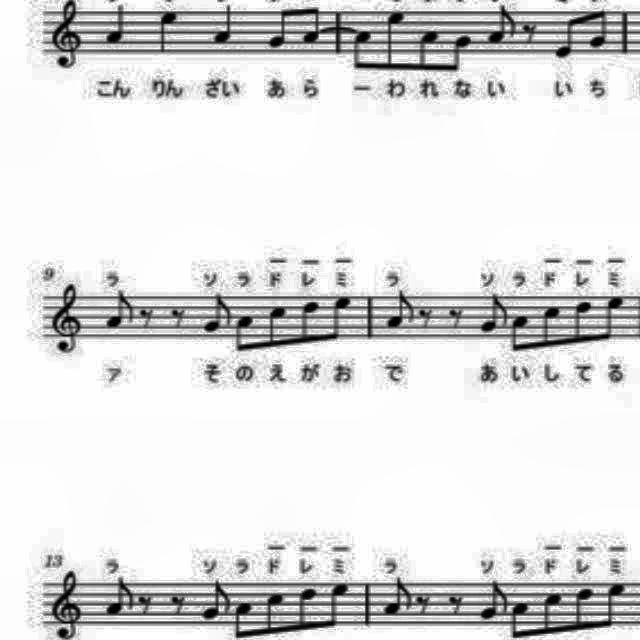Eighth-note: (382, 6, 411, 74), (478, 576, 514, 628), (324, 578, 356, 632), (198, 577, 234, 625), (474, 290, 510, 334), (102, 574, 136, 620), (599, 294, 629, 346), (383, 286, 415, 334), (548, 12, 580, 60), (105, 288, 137, 332), (384, 574, 416, 618), (202, 292, 234, 336), (295, 582, 321, 636), (448, 32, 479, 76), (416, 28, 444, 76), (504, 310, 532, 358), (540, 584, 564, 640), (604, 579, 628, 633), (262, 302, 288, 351), (266, 5, 294, 50), (328, 294, 352, 346), (540, 301, 564, 353), (574, 582, 598, 634), (584, 8, 612, 52), (487, 5, 517, 45), (264, 590, 288, 640), (572, 298, 596, 347), (298, 298, 322, 346), (507, 592, 531, 640), (230, 598, 256, 640), (300, 4, 324, 48), (350, 28, 374, 72), (234, 310, 256, 358)
Eighth-rest: (518, 17, 542, 55), (414, 298, 438, 332), (169, 587, 191, 621), (412, 590, 436, 618), (167, 299, 189, 329), (446, 300, 466, 332), (134, 305, 158, 331), (443, 592, 469, 616), (136, 592, 156, 616)
Quarter-note: (155, 8, 185, 56), (209, 1, 239, 47), (101, 2, 129, 48)
Treble-clef: (46, 280, 98, 358), (47, 0, 97, 72), (49, 570, 87, 640)
